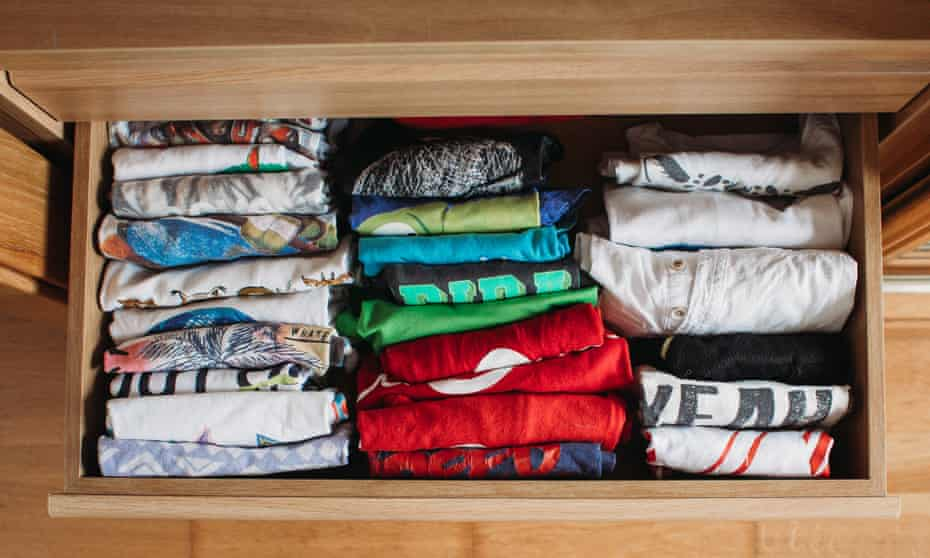blouse: (97, 123, 862, 475)
